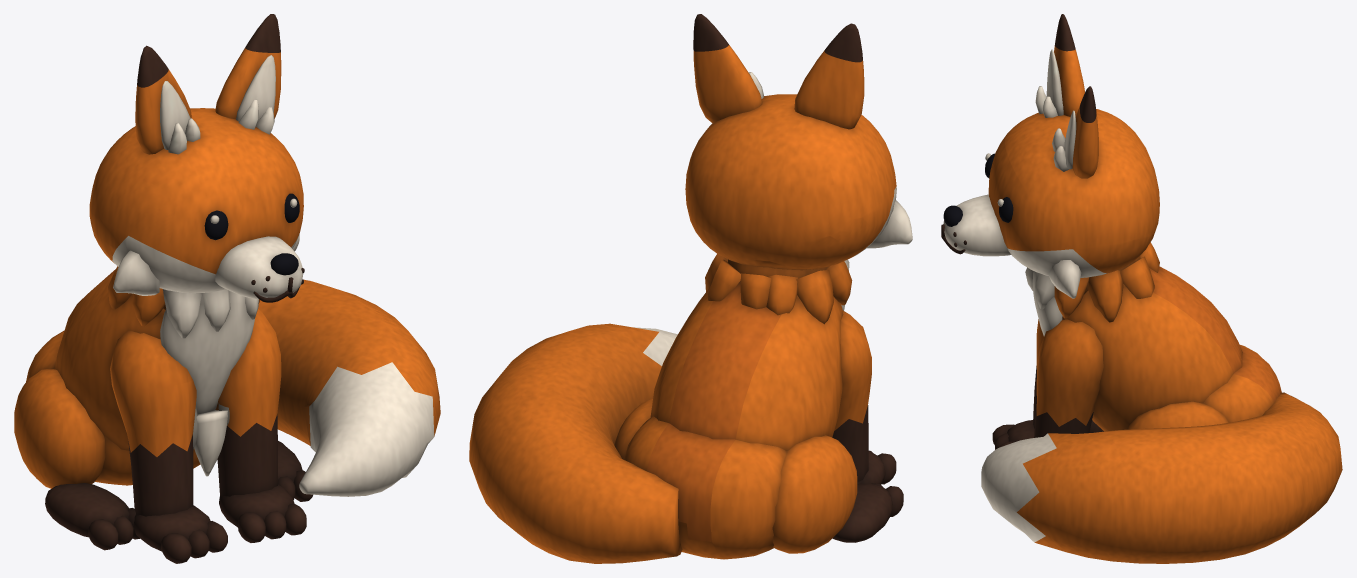
Rendered from fox.fbx.
The picture shows the model from 3 angles, left to right: view 1: azimuth 30°, elevation 25°; view 2: azimuth 150°, elevation 25°; view 3: azimuth 270°, elevation 25°; orthographic projection. The views are drawn at different scales.
Visible parts, largest first — view 1: Fox_Body, Fox_Eye; view 2: Fox_Body; view 3: Fox_Body, Fox_Eye.
Boxes of the visible parts, box(x1,y1,x2,y2) form: Fox_Body: box(14, 14, 440, 563); Fox_Eye: box(204, 193, 299, 275); Fox_Body: box(469, 14, 912, 563); Fox_Body: box(941, 14, 1342, 563); Fox_Eye: box(943, 153, 1013, 226).
Size of the model in its own units: 2.77 by 3.52 by 2.92.
Materials: 2 (1 with a texture image).
